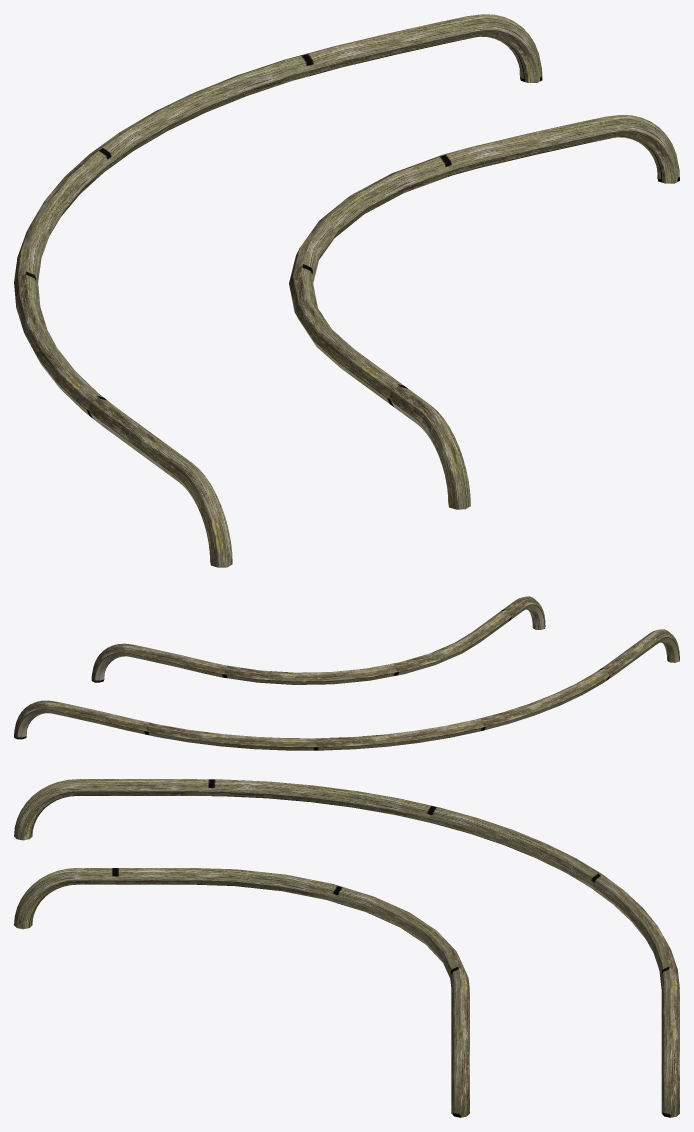
File: pipe_colider.fbx
3 renders of one model, top to bottom at view 1: azimuth 30°, elevation 25°; view 2: azimuth 150°, elevation 25°; view 3: azimuth 270°, elevation 25°, orthographic. The views are drawn at different scales.
Parts seen in each view (by area): view 1: pipe; view 2: pipe; view 3: pipe.
Boxes of the visible parts, x1,y1,x2,y2 form: pipe: (14, 14, 679, 567); pipe: (14, 596, 679, 750); pipe: (14, 779, 679, 1117).
Bounding box in the file's own units: 570 × 57.95 × 571.
